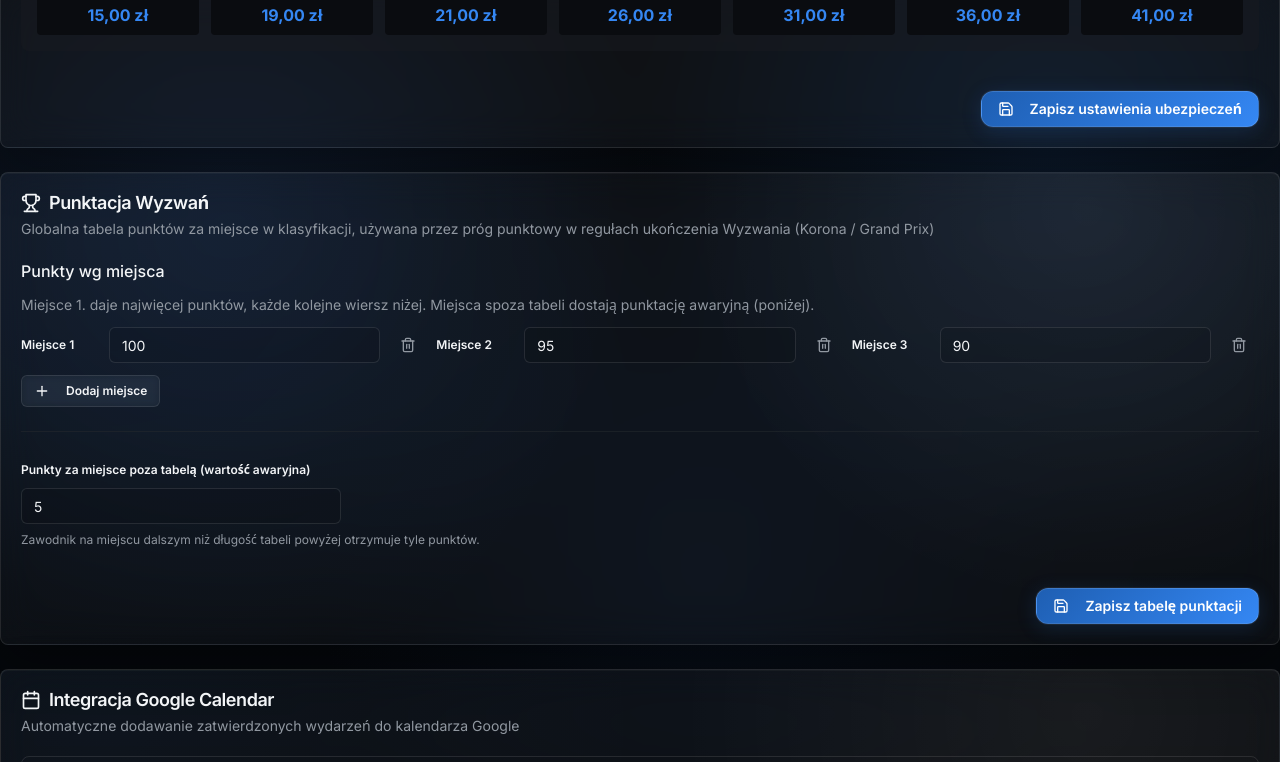
Test: AdminSettingsTab — Challenge points settings › "Dodaj miejsce" appends a new row seeded from the last value
The image size is (1280, 762).
(page scrolled)
Expected: the number field labelled "Miejsce 3" is shown, [940,327,1211,363]
What coordinates should you click on to do the following:
click the button "Dodaj miejsce"
I would click on:
 (91, 391)
Its box is [21,375,160,407].
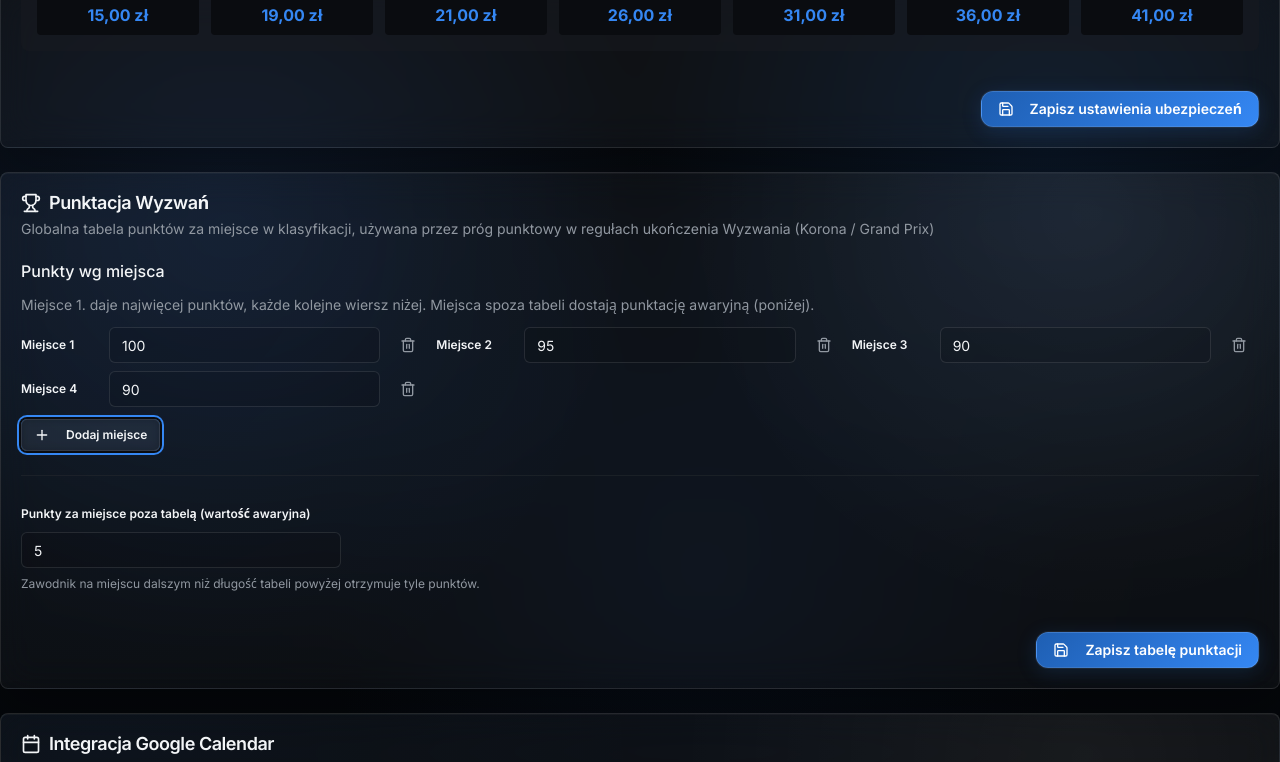
Result: the number field labelled "Miejsce 4" holds "90" at [109,371,380,407]
